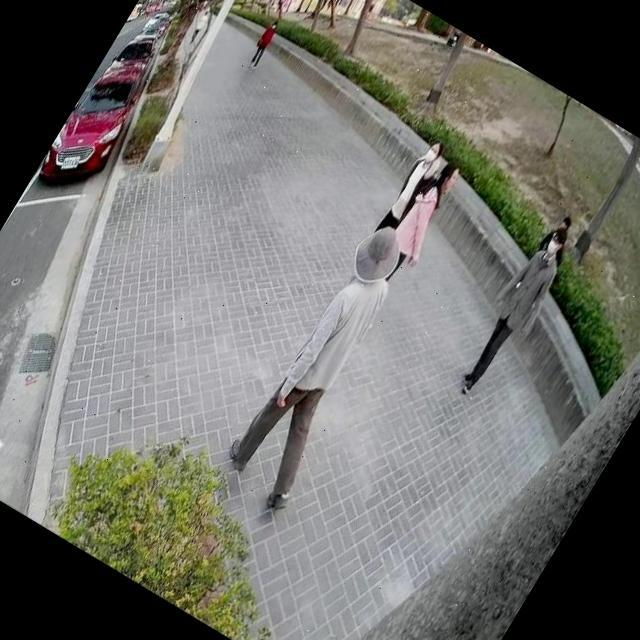person: (209, 209, 444, 524), (441, 210, 588, 410), (368, 144, 478, 295), (368, 132, 456, 252), (242, 15, 286, 74), (184, 4, 217, 48)
